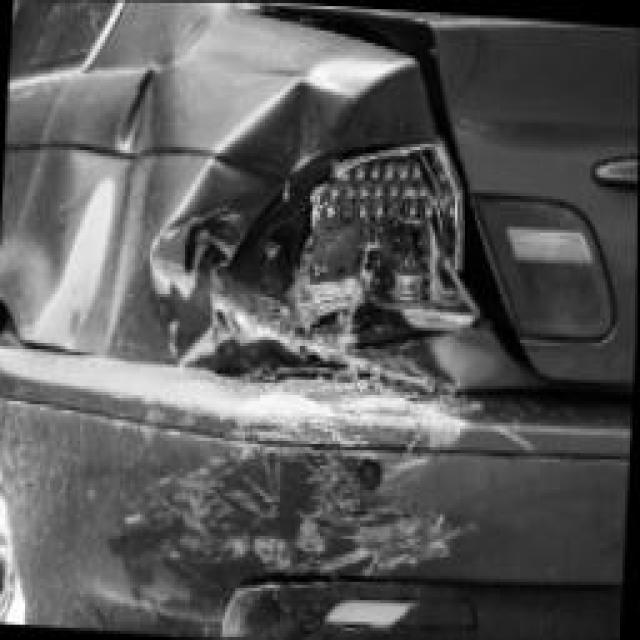Bumper: (52, 343, 525, 640)
Fender: (28, 46, 322, 308)
Light: (222, 156, 482, 342)
